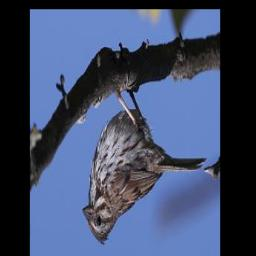Sparrow: (81, 75, 209, 249)
